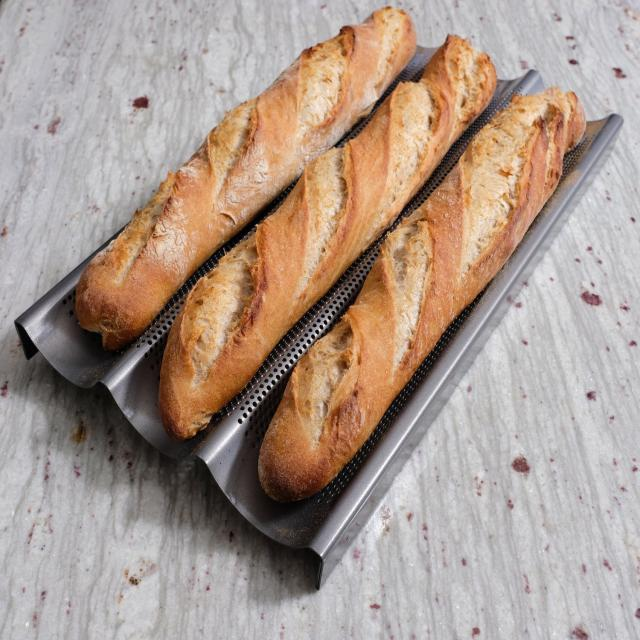Baguette: (159, 36, 497, 439), (259, 88, 585, 500), (76, 7, 416, 349)
